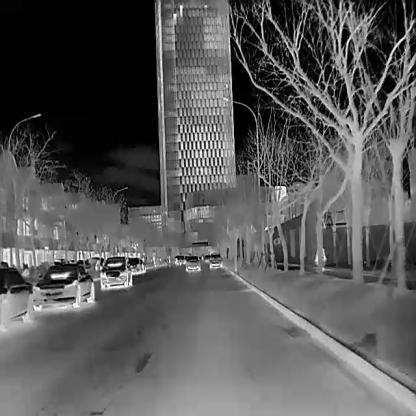car: (33, 260, 94, 309), (0, 266, 31, 332), (100, 255, 133, 290), (313, 241, 326, 273), (125, 256, 145, 273), (185, 254, 200, 272), (208, 251, 223, 268)
